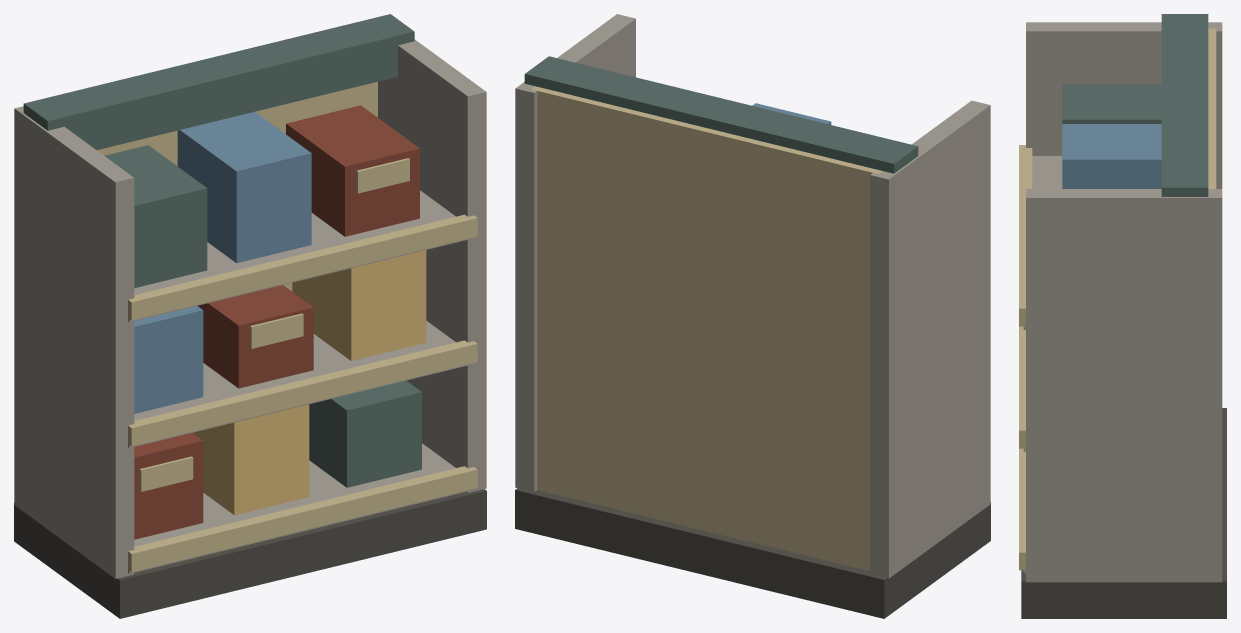
The model's file is prop-retail-shelf.glb.
The picture shows the model from 3 angles, left to right: view 1: azimuth 30°, elevation 25°; view 2: azimuth 150°, elevation 25°; view 3: azimuth 270°, elevation 25°; orthographic projection. The views are drawn at different scales.
Visible parts, largest first — view 1: retail_shelf; view 2: retail_shelf; view 3: retail_shelf.
Part boxes in pixels (x1=…): retail_shelf: x1=14, y1=14, x2=486, y2=618; retail_shelf: x1=515, y1=14, x2=990, y2=618; retail_shelf: x1=1019, y1=14, x2=1226, y2=618.
Bounding box in the file's own units: 0.89 × 1.02 × 0.445.
